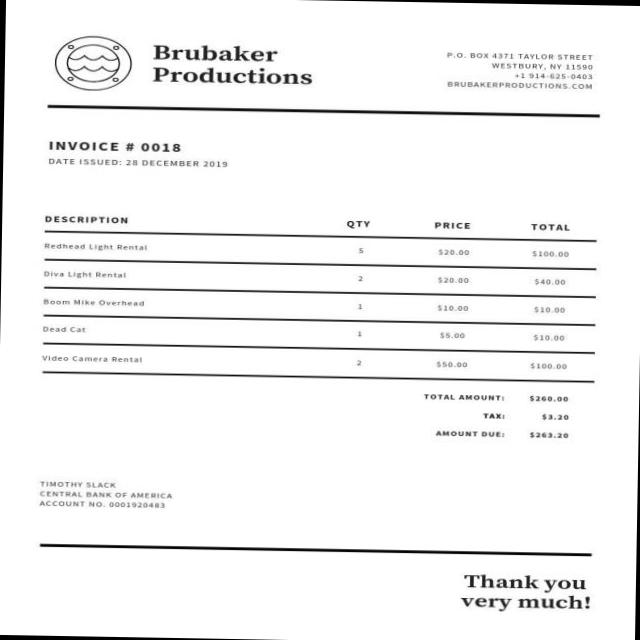invoice_date: (123, 156, 236, 168)
invoice_number: (122, 136, 191, 156)
invoice_subtotal: (526, 391, 572, 404)
invoice_total: (524, 426, 573, 442)
item_description: (40, 236, 154, 366)
item_quantity: (344, 240, 369, 376)
item_total_price: (525, 244, 572, 376)
item_unit_price: (428, 242, 476, 374)
supplier_address: (434, 47, 596, 72)
supplier_name: (149, 42, 316, 92)
tax_amount: (536, 408, 572, 422)
